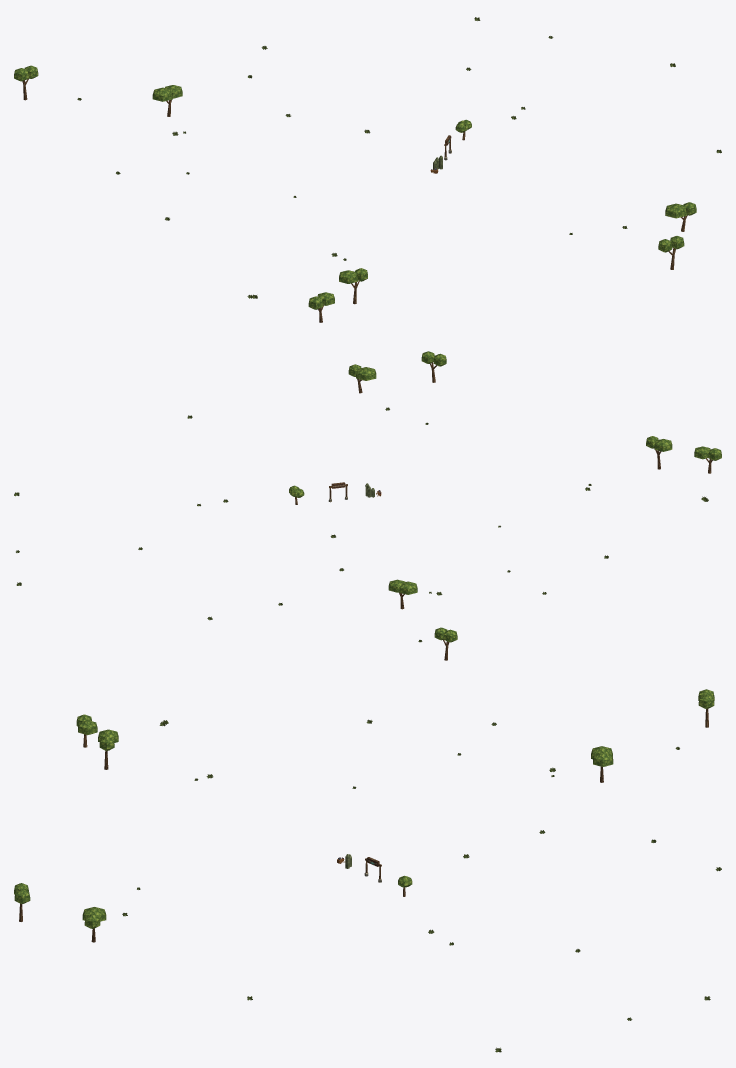
Rendered from FieldCell_3_6.fbx.
3 renders of one model, top to bottom at view 1: azimuth 30°, elevation 25°; view 2: azimuth 150°, elevation 25°; view 3: azimuth 270°, elevation 25°, orthographic. The views are drawn at different scales.
Visible parts, largest first — view 1: FieldCell_3_6; view 2: FieldCell_3_6; view 3: FieldCell_3_6.
Boxes of the visible parts, x1=… form: FieldCell_3_6: x1=14, y1=65, x2=696, y2=322; FieldCell_3_6: x1=289, y1=351, x2=721, y2=660; FieldCell_3_6: x1=14, y1=689, x2=714, y2=942.
Bounding box in the file's own units: 14118 × 1496 × 13752.
